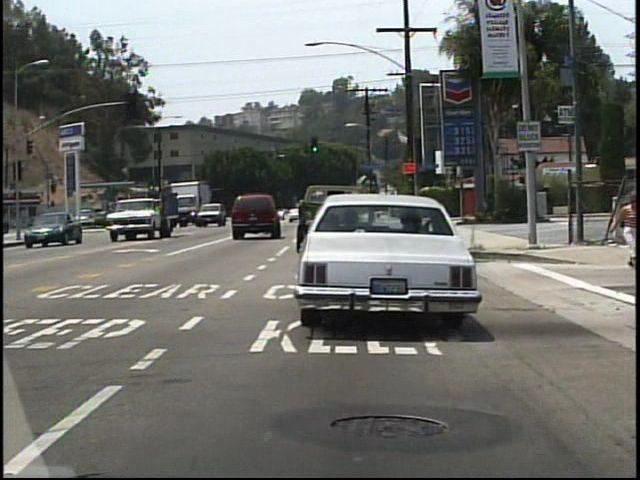person: (608, 192, 638, 269)
